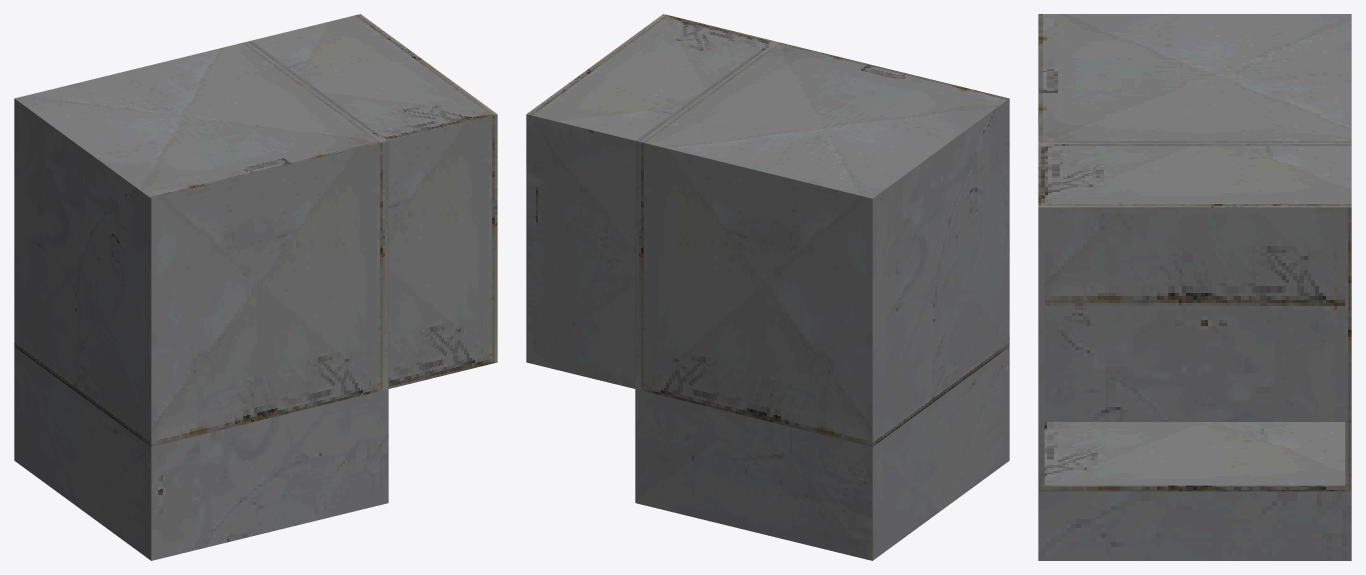
Rendered from duct_corner_sharp.glb.
3 views of the same model, side by side, from view 1: azimuth 30°, elevation 25°; view 2: azimuth 150°, elevation 25°; view 3: azimuth 270°, elevation 25° (orthographic). The views are drawn at different scales.
Parts seen in each view (by area): view 1: duct_corner_sharp; view 2: duct_corner_sharp; view 3: duct_corner_sharp.
Boxes of the visible parts, x1=… form: duct_corner_sharp: x1=14, y1=14, x2=497, y2=560; duct_corner_sharp: x1=526, y1=14, x2=1009, y2=560; duct_corner_sharp: x1=1038, y1=14, x2=1351, y2=560.
Size of the model in its own units: 1.52 by 1.52 by 1.04.
Materials: 1 (1 with a texture image).
